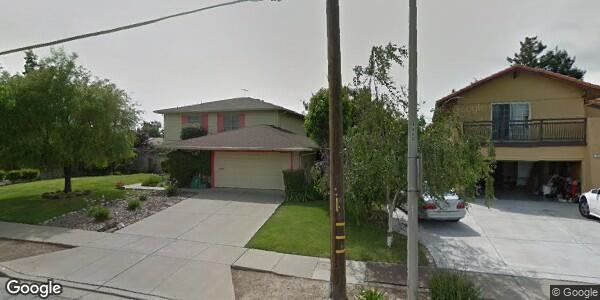Steel_Pole: (405, 1, 424, 298)
Wood_Pole: (323, 2, 350, 300)
